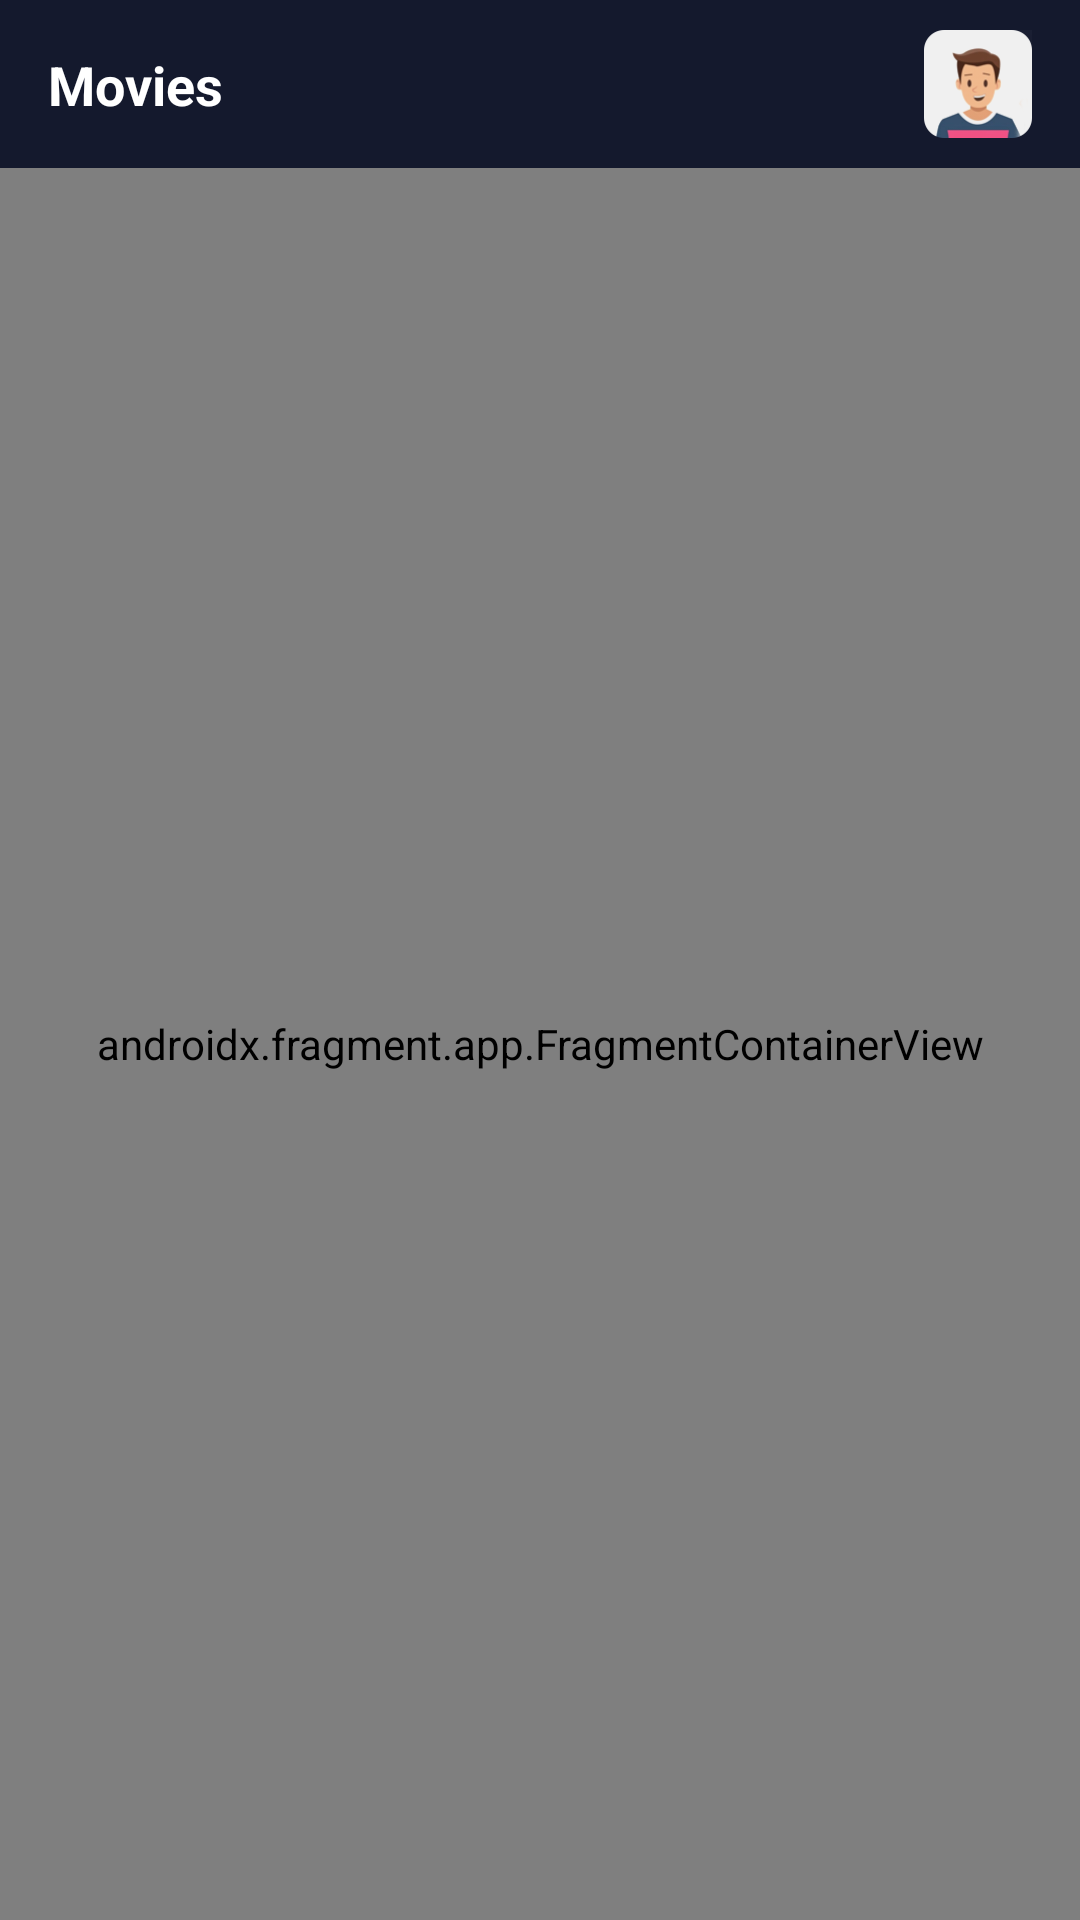

Named icons in this screenshot (1080x1920) and their centers, (x=x, y=y):
man: (x=978, y=84)
